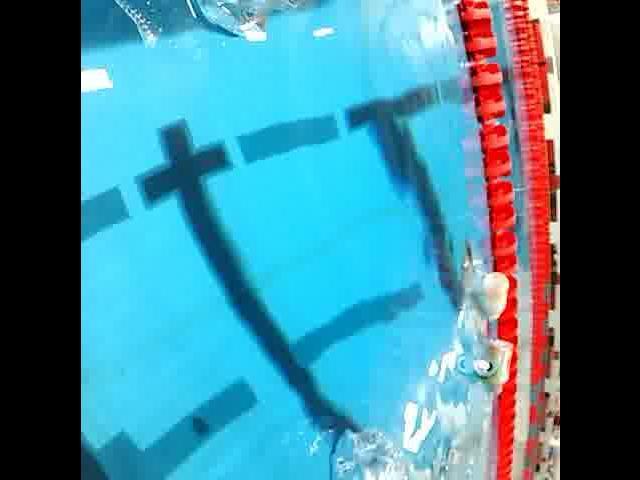Bottle: (99, 0, 309, 47), (474, 264, 512, 328), (484, 334, 514, 398)
Can: (466, 353, 500, 383)
